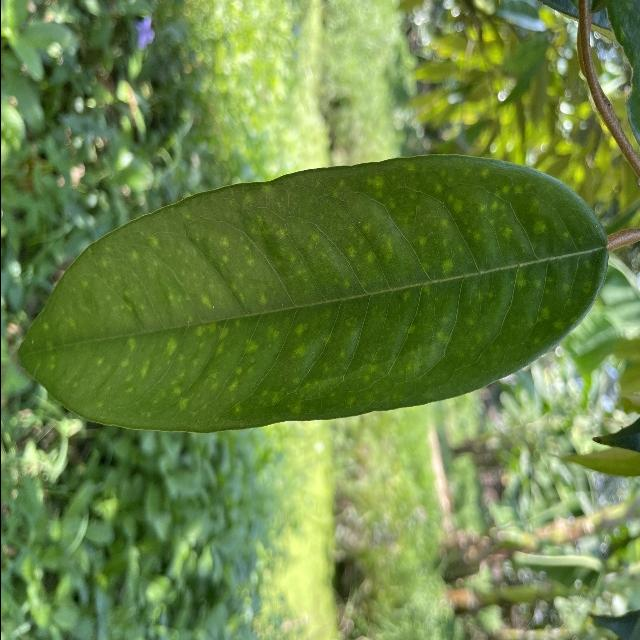Leaf Spot: (15, 147, 613, 443)
